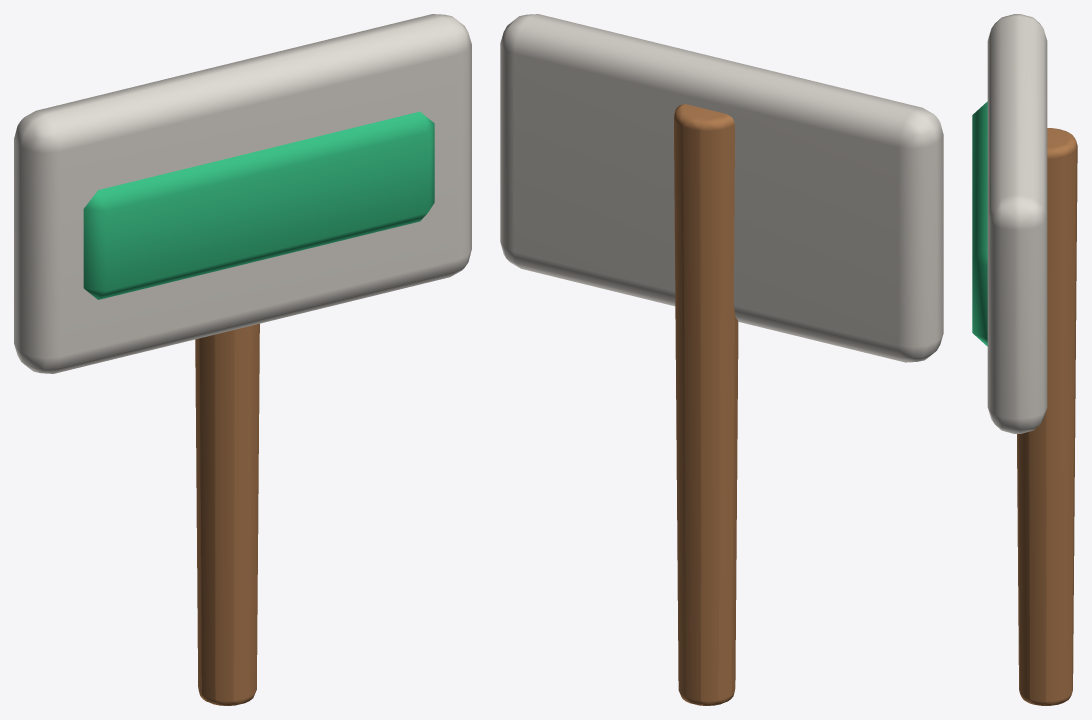
Rendered from sale.glb.
The picture shows the model from 3 angles, left to right: view 1: azimuth 30°, elevation 25°; view 2: azimuth 150°, elevation 25°; view 3: azimuth 270°, elevation 25°; orthographic projection. The views are drawn at different scales.
Parts seen in each view (by area): view 1: Cone; view 2: Cone; view 3: Cone.
Boxes of the visible parts, box(x1,y1,x2,y2) form: Cone: box(14, 14, 471, 705); Cone: box(500, 14, 943, 705); Cone: box(972, 14, 1077, 705).
Size of the model in its own units: 0.2 by 0.275 by 0.0443.
